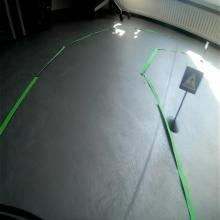crosswalk: (178, 65, 204, 96)
